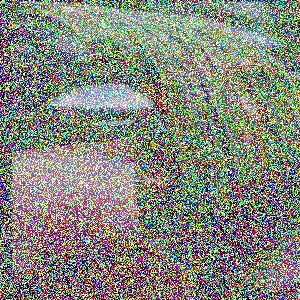Brown_Spot: (227, 88, 278, 138), (175, 232, 218, 289), (131, 73, 178, 123), (179, 50, 238, 85), (138, 146, 176, 200), (218, 175, 253, 216), (232, 41, 263, 84), (233, 219, 270, 254), (229, 123, 268, 150), (260, 161, 294, 188), (52, 3, 93, 24), (90, 36, 116, 67), (179, 135, 209, 158), (174, 111, 196, 127)
